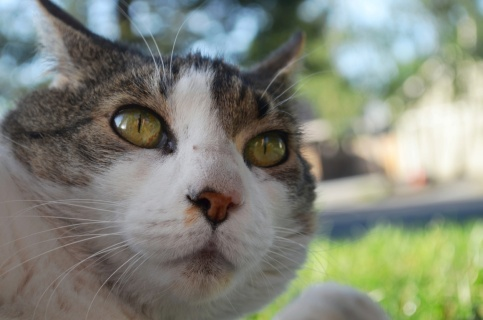Cat: (0, 0, 390, 319)
